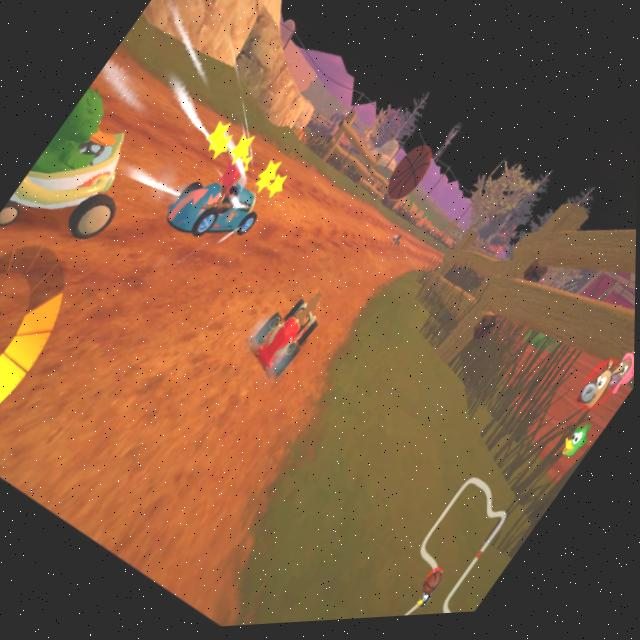enemy_kart: (0, 92, 166, 277), (158, 145, 280, 272), (388, 232, 408, 253)
off_track: (251, 253, 589, 621), (127, 0, 435, 226)
player_kart: (241, 283, 334, 388)
track: (261, 171, 417, 312)
